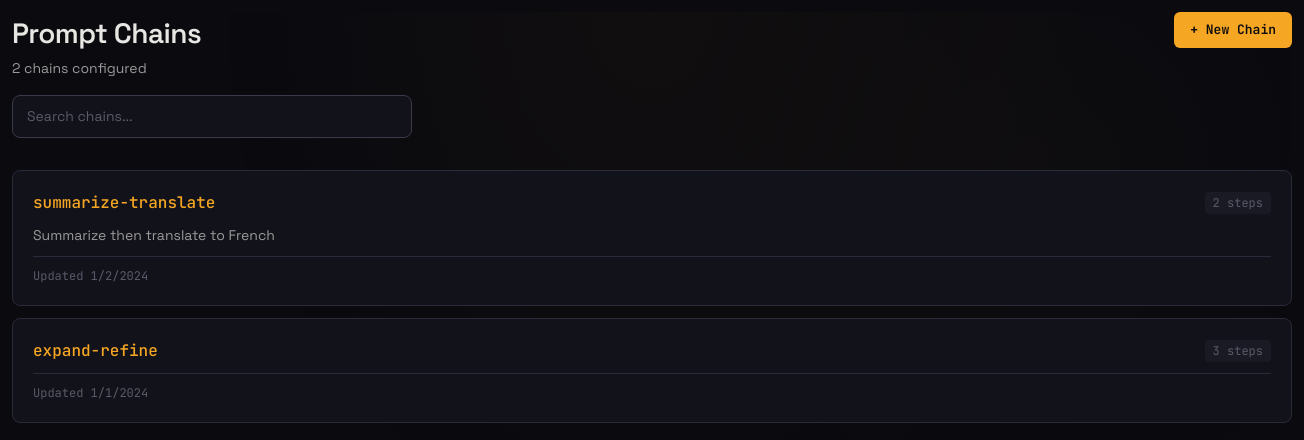
ChainsPage › filters chains by search
Check: the text "summarize-translate" is shown, box [33,191,215,215]
Type "expand" into the field with placeholder "Search chains...". click: (212, 116)
box: [12,95,412,138]
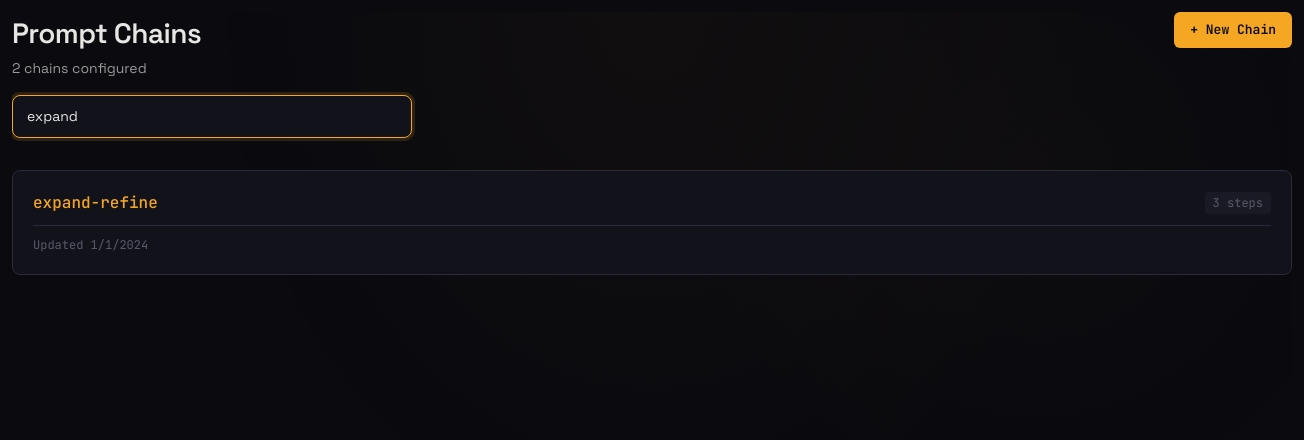
Check: the text "expand-refine" is shown, box [33,191,158,215]
Check: the link "summarize-translate" is gone
